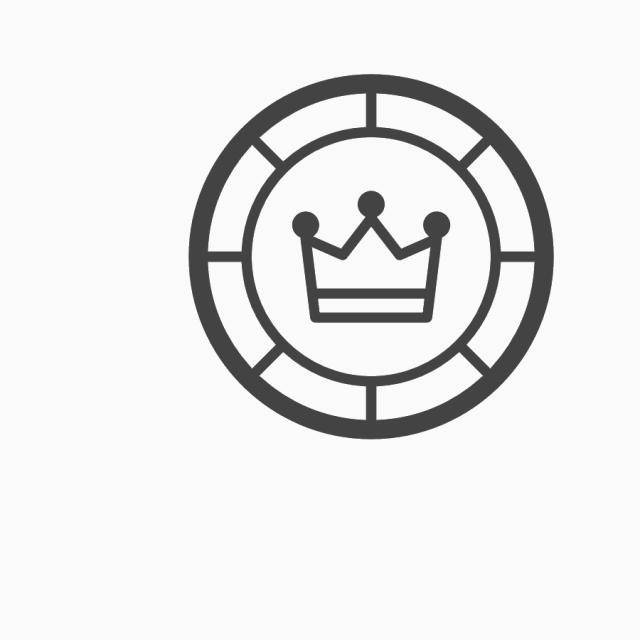coin: (180, 70, 562, 451)
